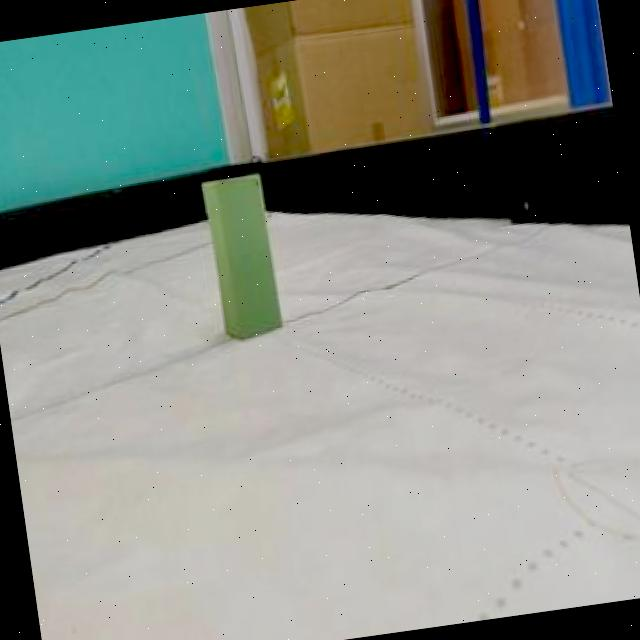greenbox: (202, 171, 286, 343)
